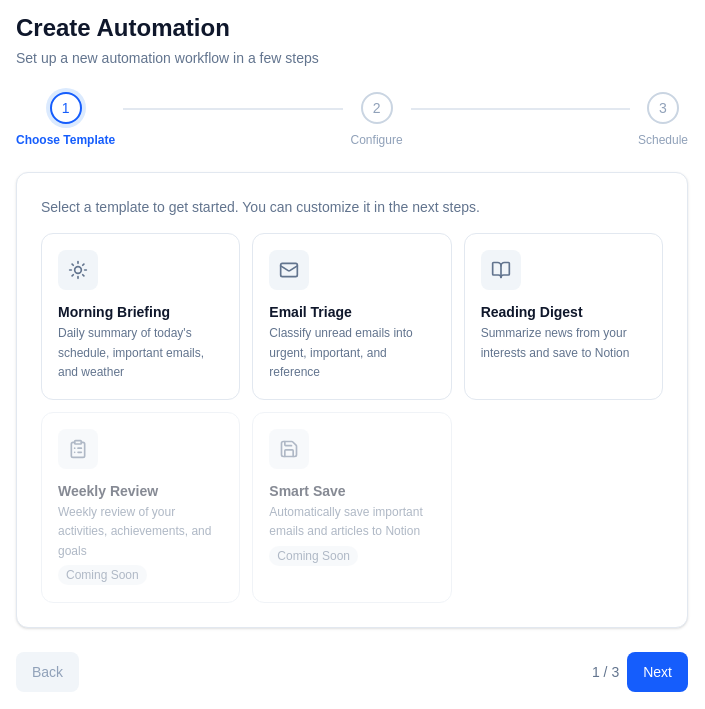
Scenario: TC-3002: Create Morning Briefing automation from template › selecting Morning Briefing pre-fills name on step 2
Click the button "Morning Briefing" at coordinates (141, 316), box [41,233,240,400]
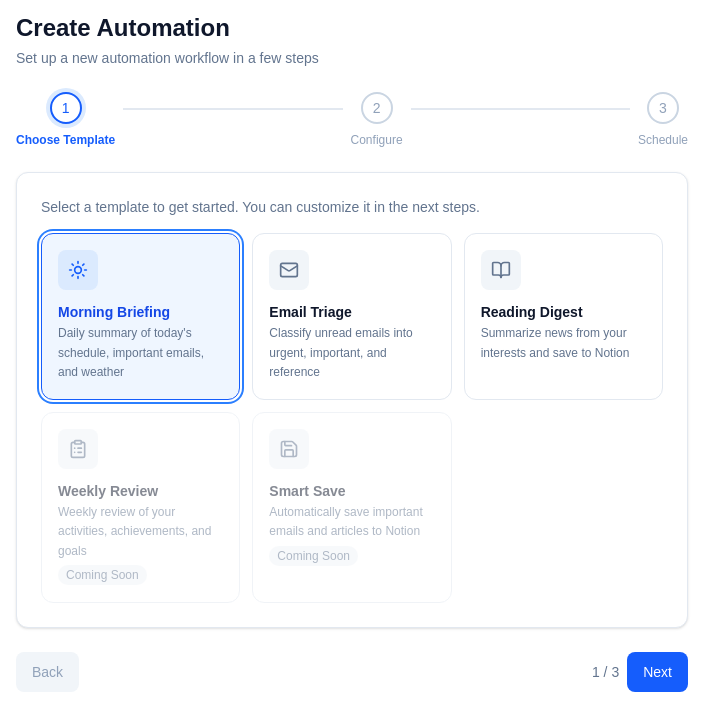
Click the button with aria-label "go to next step" at coordinates (658, 672), box [627,652,688,692]
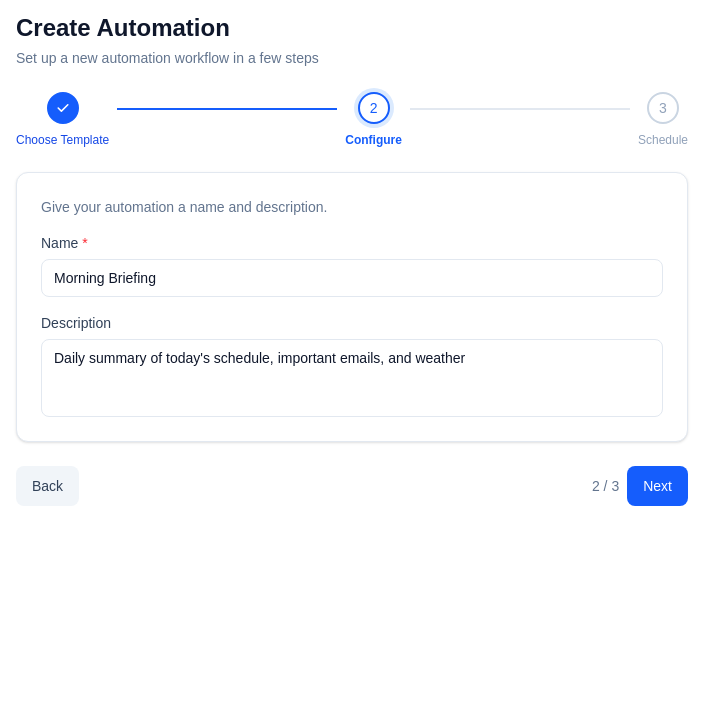
Expected: the field labelled "Name *" holds "Morning Briefing", [41,259,663,297]
